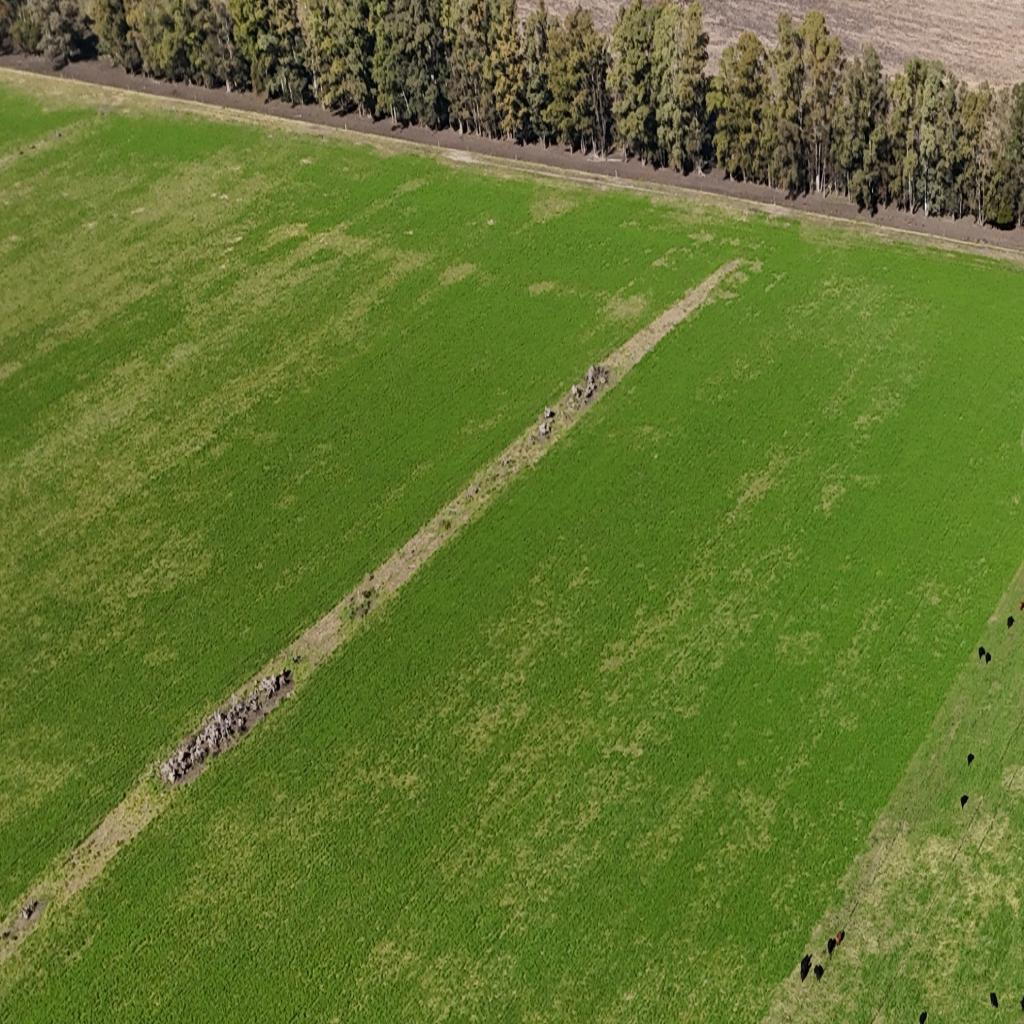cow: (800, 953, 812, 981), (814, 964, 824, 982), (828, 937, 836, 956), (838, 926, 845, 947), (990, 992, 999, 1008), (919, 1010, 927, 1024), (978, 646, 986, 660), (968, 752, 975, 766), (1007, 615, 1014, 629), (960, 795, 966, 809), (986, 652, 992, 664), (1019, 600, 1024, 611), (1021, 996, 1024, 1011)
